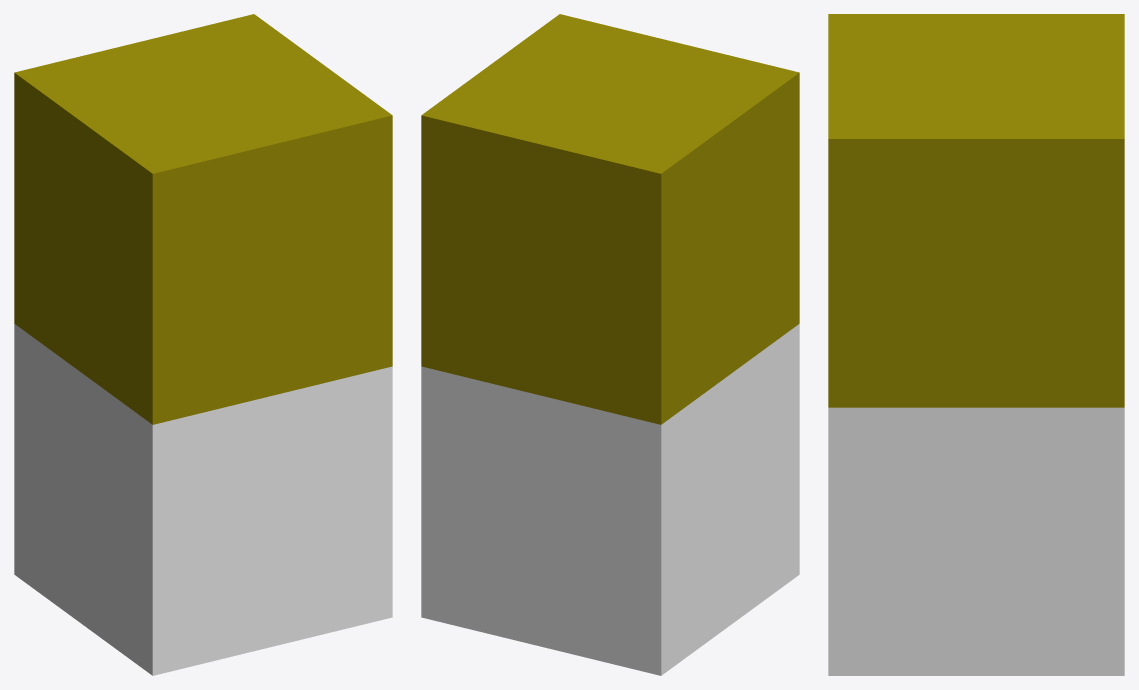
File: Birch_Tree (Stage 2).obj
3 views of the same model, side by side, from view 1: azimuth 30°, elevation 25°; view 2: azimuth 150°, elevation 25°; view 3: azimuth 270°, elevation 25° (orthographic). The views are drawn at different scales.
Size of the model in its own units: 0.1 by 0.2 by 0.1.
1 material, 1 textured.
